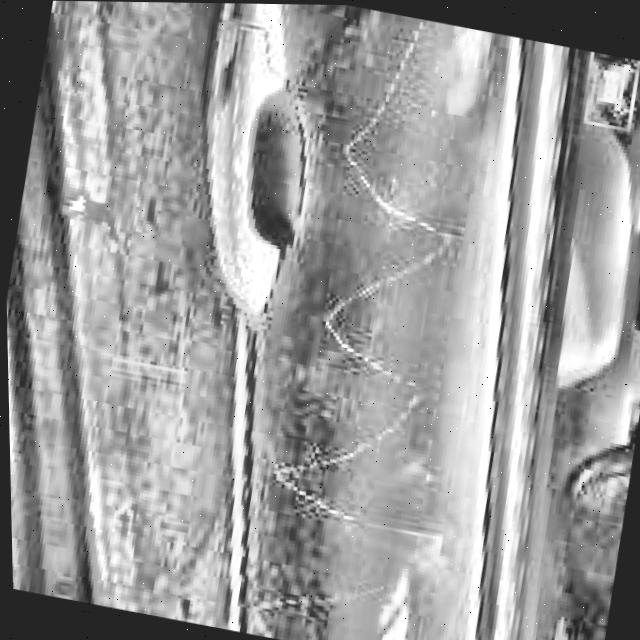door_scratch: (236, 3, 525, 640)
